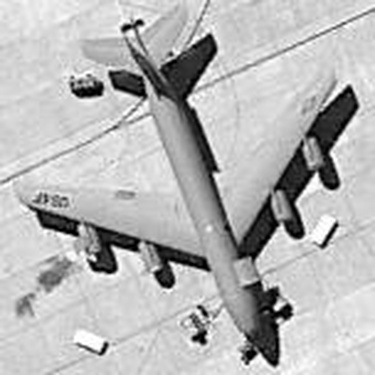airplane: (13, 2, 356, 352)
